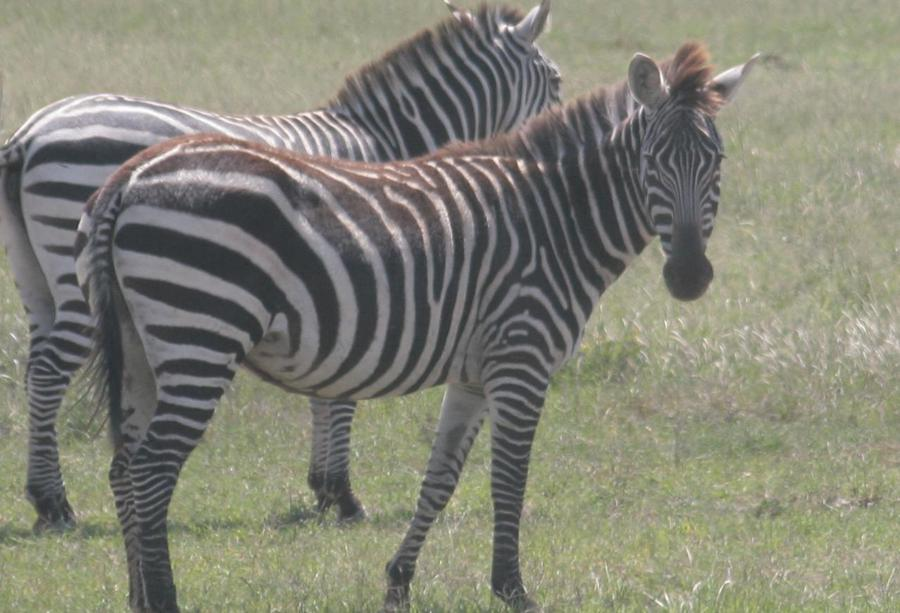zebra_plains: (90, 93, 625, 443)
